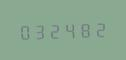eight: (78, 19, 92, 38)
four: (63, 20, 77, 39)
three: (32, 21, 46, 40)
two: (48, 20, 62, 40), (93, 18, 107, 38)
zero: (17, 21, 31, 41)
